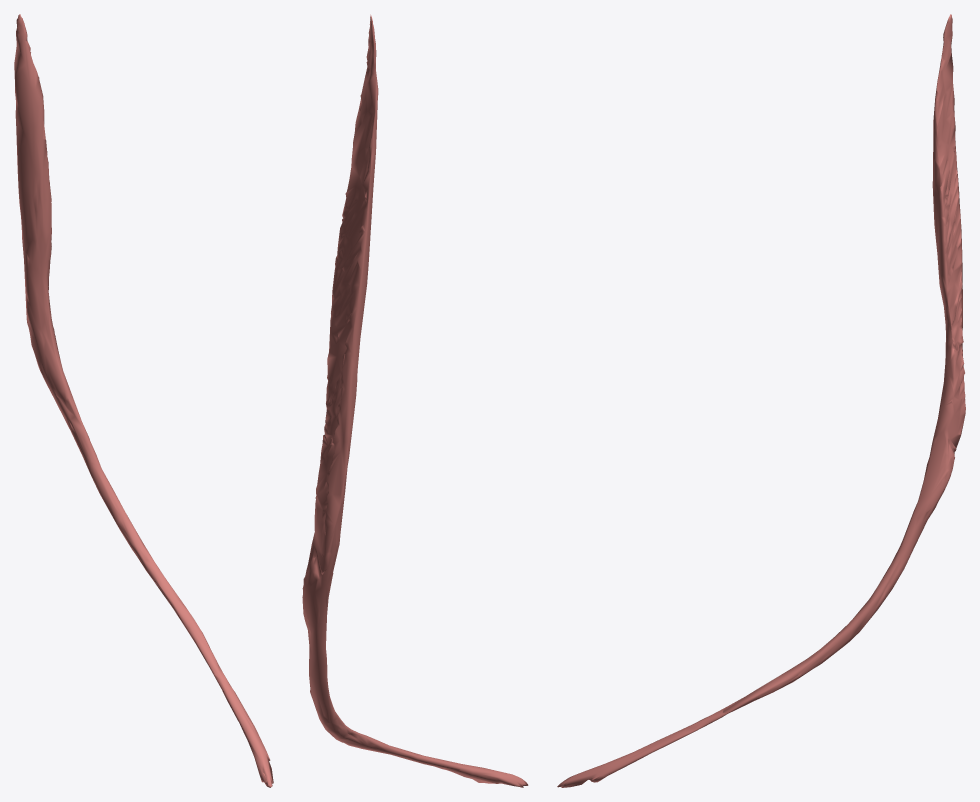
3 renders of one model, left to right at view 1: azimuth 30°, elevation 25°; view 2: azimuth 150°, elevation 25°; view 3: azimuth 270°, elevation 25°, orthographic. The views are drawn at different scales.
Parts seen in each view (by area): view 1: ZA_bcacc28f9a35a0eb; view 2: ZA_bcacc28f9a35a0eb; view 3: ZA_bcacc28f9a35a0eb.
Boxes of the visible parts, x1,y1,x2,y2 form: ZA_bcacc28f9a35a0eb: [14, 14, 273, 787]; ZA_bcacc28f9a35a0eb: [302, 14, 528, 787]; ZA_bcacc28f9a35a0eb: [557, 14, 965, 787].
Size of the model in its own units: 0.0427 by 0.2805 by 0.1417.
